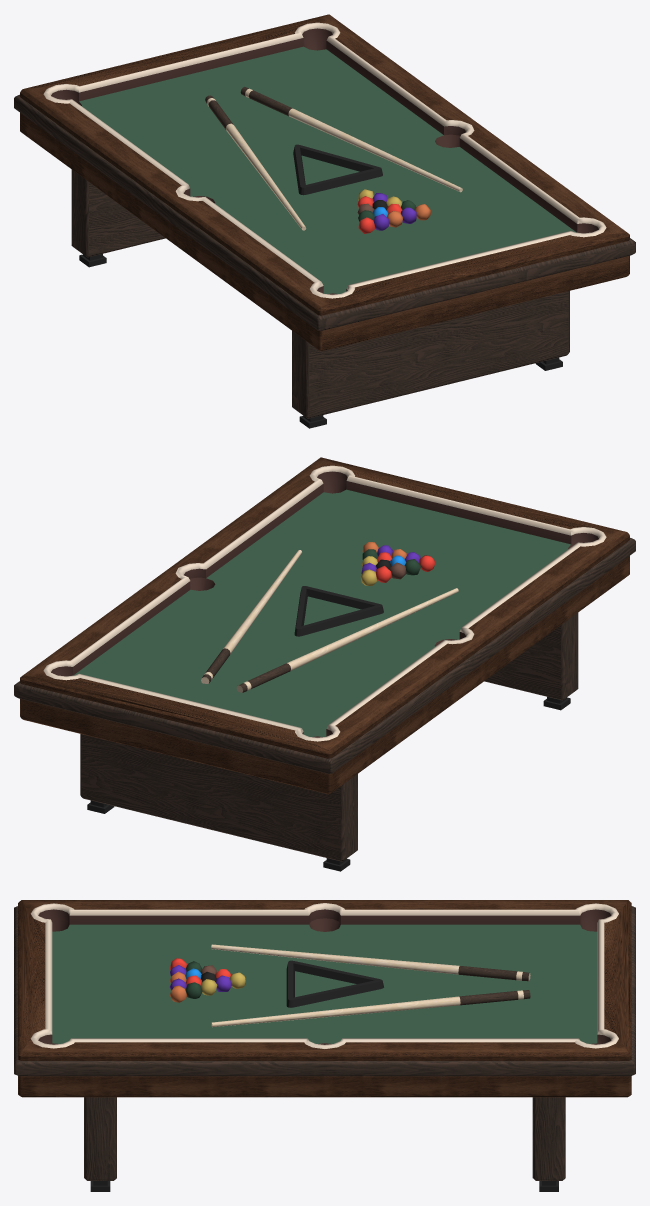
Rendered from entertainment_013.fbx.
The picture shows the model from 3 angles, top to bottom: view 1: azimuth 30°, elevation 25°; view 2: azimuth 150°, elevation 25°; view 3: azimuth 270°, elevation 25°; orthographic projection.
Parts seen in each view (by area): view 1: entertainment_013; view 2: entertainment_013; view 3: entertainment_013.
Boxes of the visible parts, x1,y1,x2,y2 form: entertainment_013: (14,14,635,428); entertainment_013: (14,457,635,871); entertainment_013: (14,900,635,1191).
Bounding box in the file's own units: 210 × 349 × 97.53.
